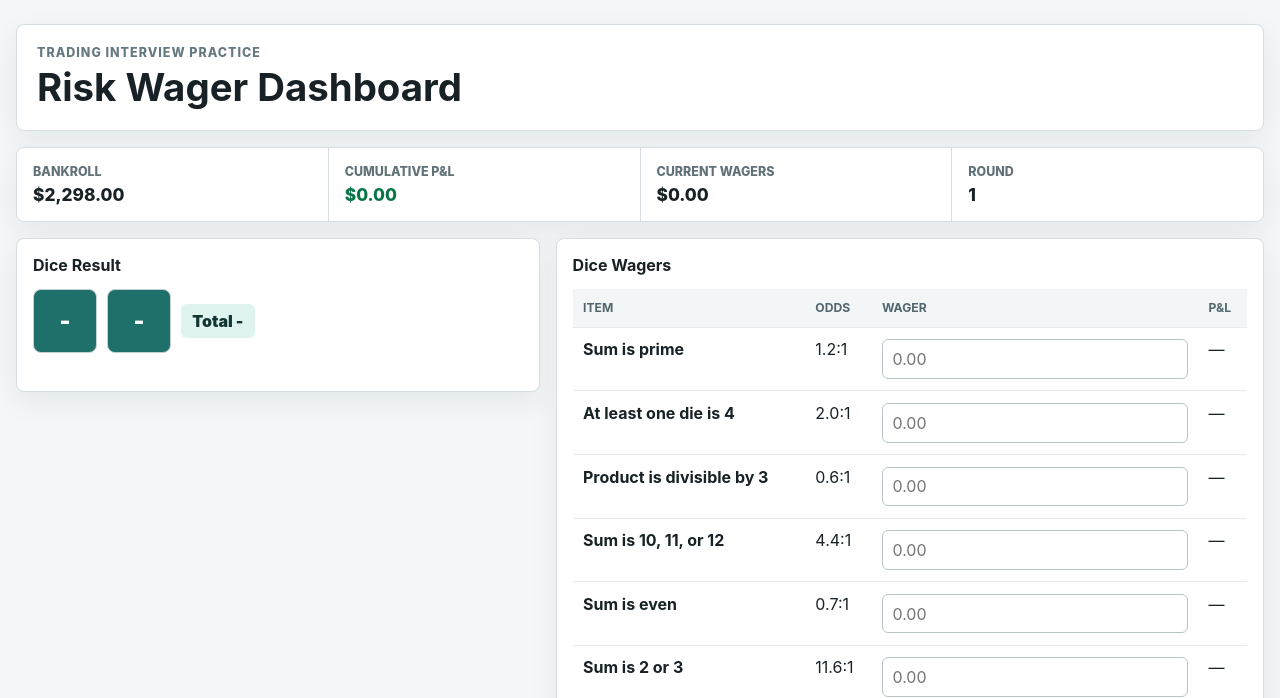
Test case: round form validation and submission › does not change bankroll for invalid wagers
Type "-1" into the field with placeholder "0.00" in the row of "Sum is prime". click: (1035, 359)
box: [882,339,1188,379]
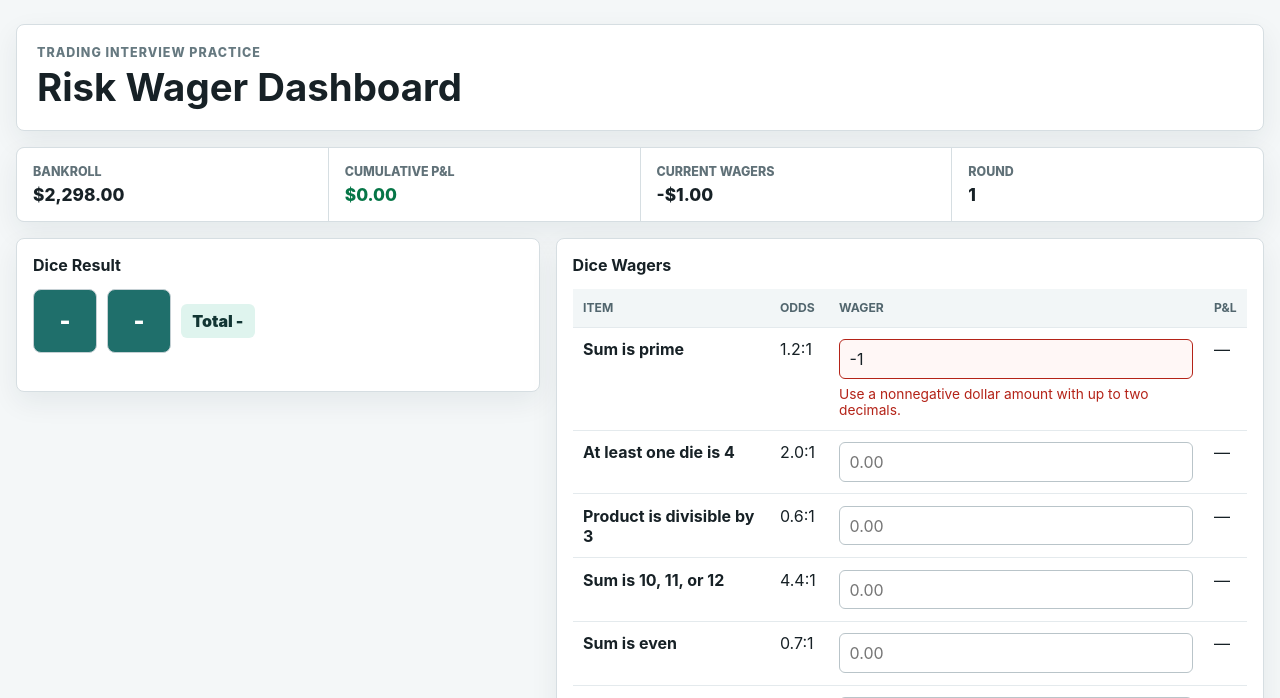
Expected: the text "$2,298.00" is shown, [33,184,124,205]
Now the text "Use a nonnegative dollar amount with up to two decimals." is shown, box [839,386,1193,418]
